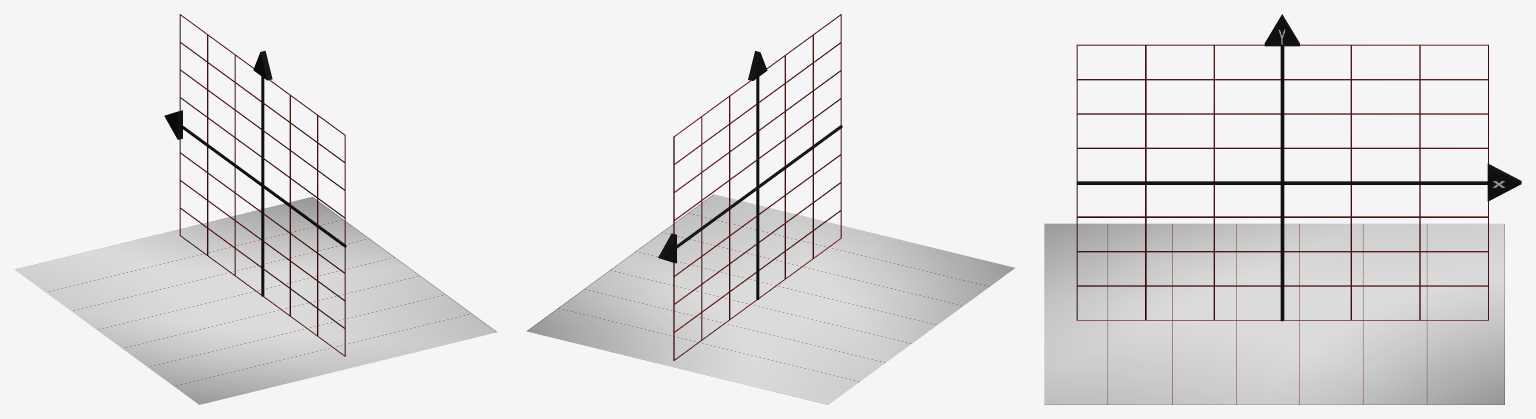
The picture shows the model from 3 angles, left to right: view 1: azimuth 30°, elevation 25°; view 2: azimuth 150°, elevation 25°; view 3: azimuth 270°, elevation 25°; orthographic projection. The views are drawn at different scales.
Visible parts, largest first — view 1: Y__X_B_²:parabola:plane:pPlane1, grid_y_x__ejex:solido_x, Y__X_B_²:parabola:pCylinder37, Y__X_B_²:parabola:pCylinder36; view 2: Y__X_B_²:parabola:plane:pPlane1, grid_y_x__ejex:solido_x, Y__X_B_²:parabola:pCylinder37, Y__X_B_²:parabola:pCylinder36; view 3: Y__X_B_²:parabola:plane:pPlane1, grid_y_x__ejex:solido_x, Y__X_B_²:parabola:pCylinder36, Y__X_B_²:parabola:pCylinder37, Y__X_B_²:parabola:nueva_flecha_x:polySurface1, Y__X_B_²:parabola:Nueva_flecha_y:polySurface1.
Boxes of the visible parts, x1,y1,x2,y2 form: Y__X_B_²:parabola:plane:pPlane1: [14, 197, 496, 404]; grid_y_x__ejex:solido_x: [179, 14, 345, 356]; Y__X_B_²:parabola:pCylinder37: [261, 76, 264, 296]; Y__X_B_²:parabola:pCylinder36: [179, 124, 346, 247]; Y__X_B_²:parabola:plane:pPlane1: [527, 194, 1014, 404]; grid_y_x__ejex:solido_x: [673, 14, 841, 360]; Y__X_B_²:parabola:pCylinder37: [756, 77, 759, 299]; Y__X_B_²:parabola:pCylinder36: [677, 125, 842, 248]; Y__X_B_²:parabola:plane:pPlane1: [1044, 223, 1504, 404]; grid_y_x__ejex:solido_x: [1076, 44, 1488, 320]; Y__X_B_²:parabola:pCylinder36: [1076, 181, 1487, 184]; Y__X_B_²:parabola:pCylinder37: [1280, 46, 1284, 321]; Y__X_B_²:parabola:nueva_flecha_x:polySurface1: [1487, 163, 1521, 201]; Y__X_B_²:parabola:Nueva_flecha_y:polySurface1: [1264, 14, 1299, 46].
Size of the model in its own units: 56.75 by 44.59 by 63.19.
